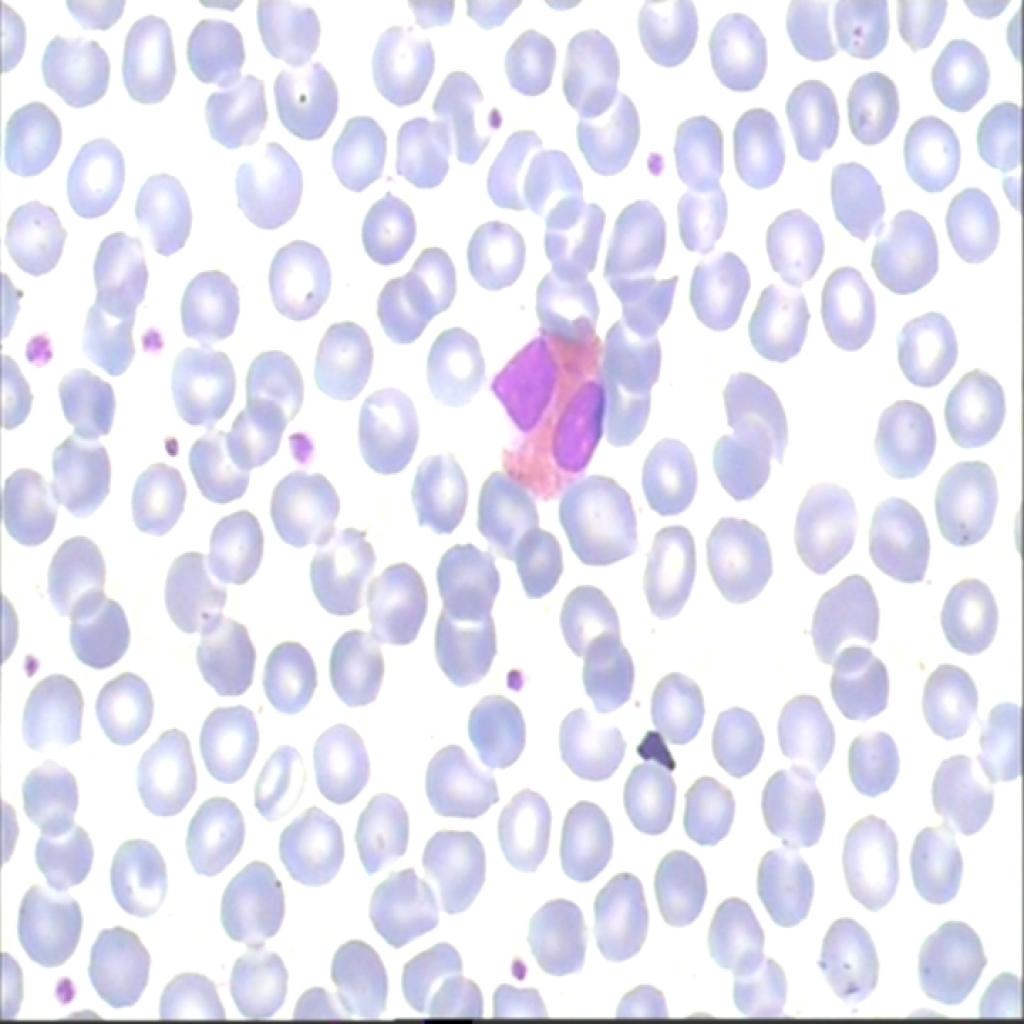Eosinofil: (485, 313, 606, 501)
Platelet: (634, 140, 674, 204), (495, 940, 538, 998), (286, 423, 333, 471), (42, 962, 86, 1010), (14, 324, 51, 375), (154, 420, 184, 482), (502, 650, 533, 708), (134, 318, 175, 361), (472, 100, 508, 134), (16, 645, 46, 681)
